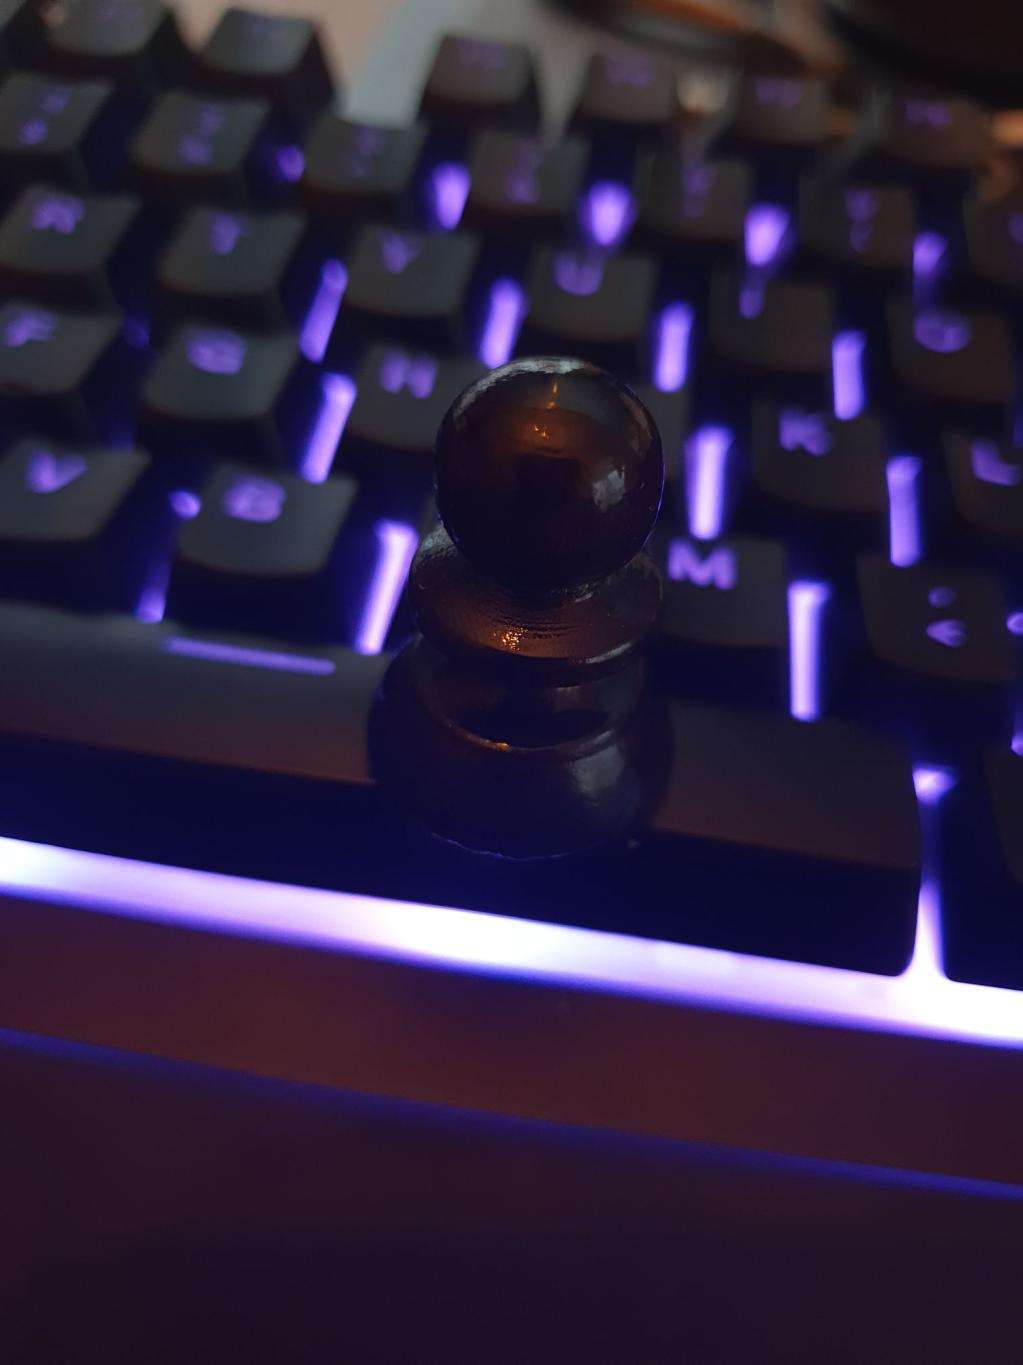bpawn: (368, 353, 678, 861)
